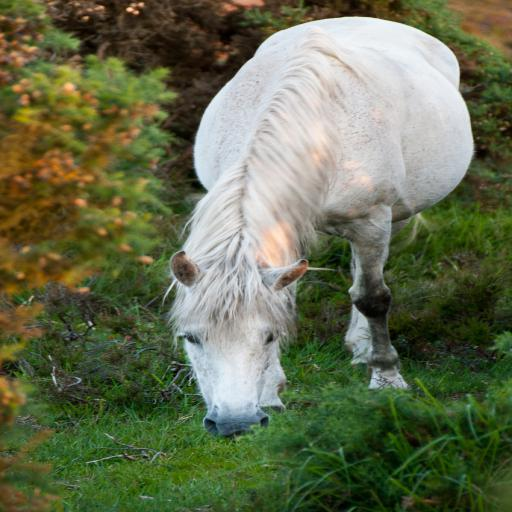Horse: (155, 13, 477, 441)
